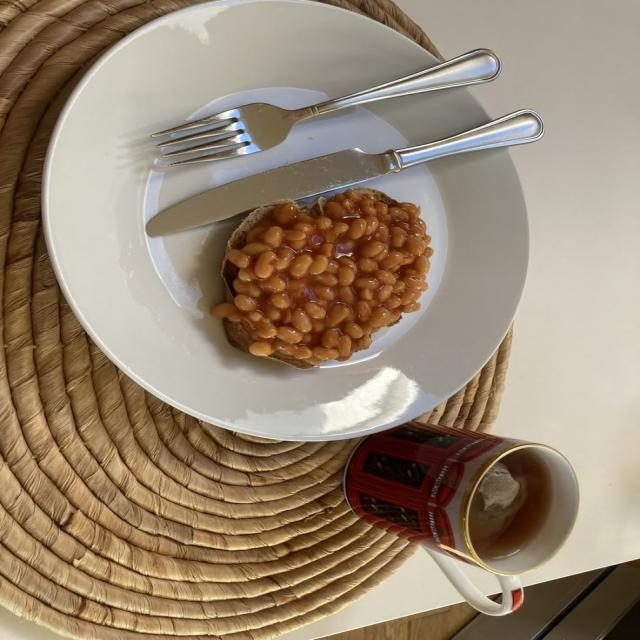beans: (212, 190, 433, 364), (254, 250, 277, 279), (289, 254, 313, 277), (272, 204, 298, 225), (234, 278, 261, 298), (327, 303, 350, 326), (278, 344, 312, 359), (293, 309, 312, 332), (227, 249, 250, 268), (380, 252, 404, 270), (360, 240, 385, 257), (406, 236, 426, 256), (369, 307, 389, 327), (261, 276, 286, 292), (277, 327, 302, 343), (237, 282, 262, 298), (264, 226, 283, 247), (277, 248, 295, 270), (255, 321, 276, 339), (249, 341, 274, 356), (211, 303, 236, 318), (349, 218, 366, 240), (234, 294, 256, 311), (321, 329, 340, 348), (309, 256, 328, 275), (324, 201, 344, 219), (305, 302, 326, 319), (268, 293, 290, 309), (313, 347, 338, 361), (374, 270, 397, 285), (404, 276, 427, 291), (338, 286, 356, 305), (354, 301, 371, 321), (243, 243, 269, 256), (414, 255, 430, 276), (391, 227, 407, 248), (354, 276, 379, 289), (409, 220, 426, 239), (400, 288, 419, 305), (358, 258, 379, 273), (314, 286, 335, 301), (264, 305, 282, 322), (246, 227, 265, 243), (344, 323, 363, 339), (339, 267, 355, 286), (338, 256, 357, 272), (315, 273, 338, 286), (294, 222, 315, 236), (284, 230, 306, 243), (288, 280, 307, 295), (375, 224, 389, 244), (338, 335, 351, 356), (400, 203, 419, 217), (365, 216, 379, 235), (388, 207, 408, 220), (323, 227, 338, 244), (315, 216, 333, 230), (278, 343, 297, 356), (377, 285, 392, 301), (345, 189, 363, 202), (294, 346, 312, 359), (387, 294, 402, 309), (360, 196, 376, 210), (297, 212, 315, 224), (334, 222, 349, 236), (356, 336, 372, 349), (360, 204, 376, 217), (247, 311, 263, 324), (401, 267, 417, 280), (238, 269, 254, 282), (319, 243, 333, 257), (280, 308, 292, 324), (327, 259, 339, 275), (227, 310, 243, 322), (393, 280, 406, 294), (402, 302, 420, 312), (375, 203, 388, 216), (314, 320, 325, 335), (390, 310, 401, 325), (361, 322, 373, 335), (342, 198, 355, 210), (360, 289, 373, 301), (307, 356, 322, 365), (333, 194, 347, 202), (424, 247, 433, 257), (423, 235, 432, 243)
